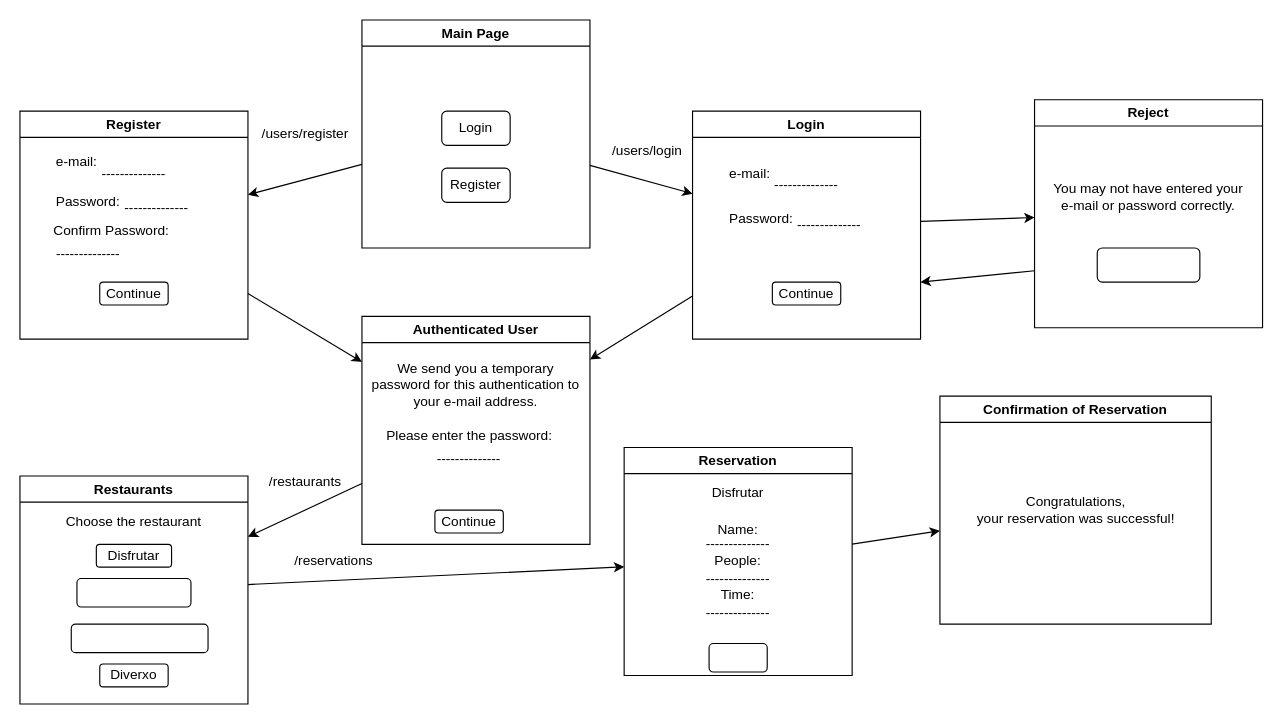
This 1283x724 diagram has some shape labels left out. The shapes that lost their labels are listed below. From the top down, each one's centre as x and y in pixels, then its label:
pixel 1148 264: Please try again
pixel 133 592: Asador Etxebarri
pixel 139 638: Table by Bruno Verjus
pixel 737 657: Book!
